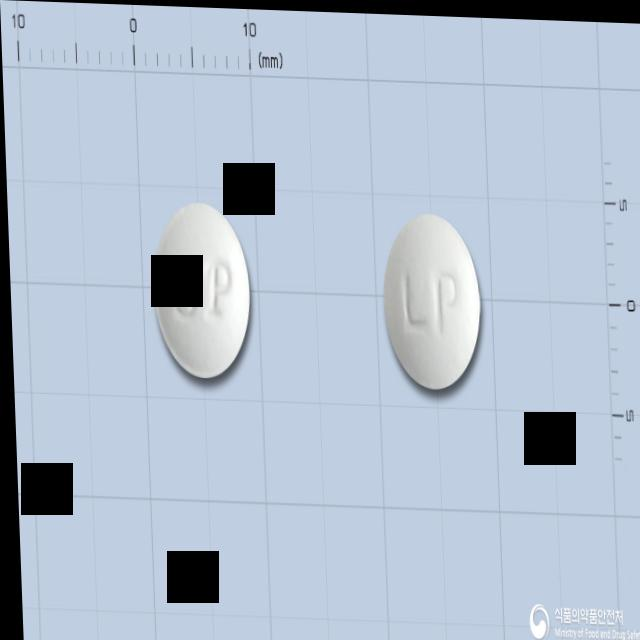Ciroctan: (147, 197, 252, 382), (380, 207, 481, 389)
